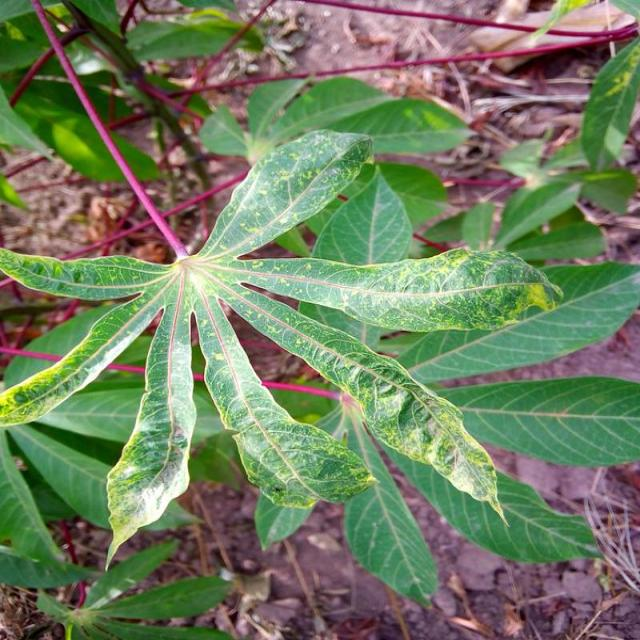cassava leaf: (1, 117, 562, 570)
